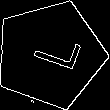L_W: (20, 31, 80, 78)
